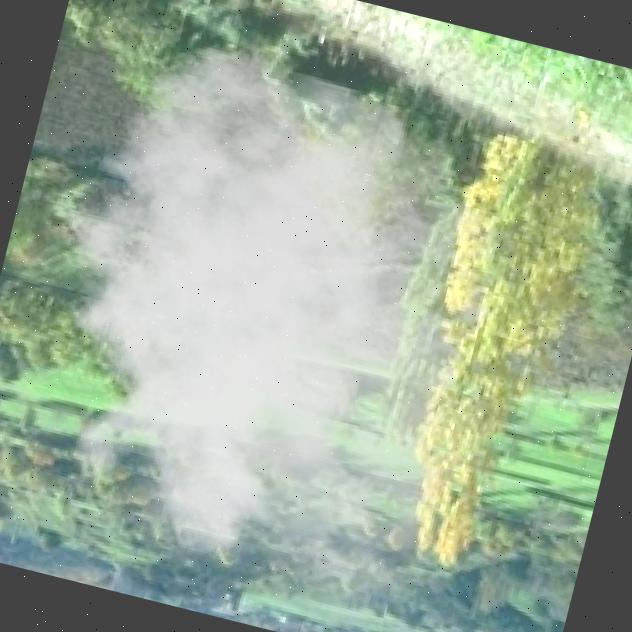smoke: (0, 11, 603, 632)
